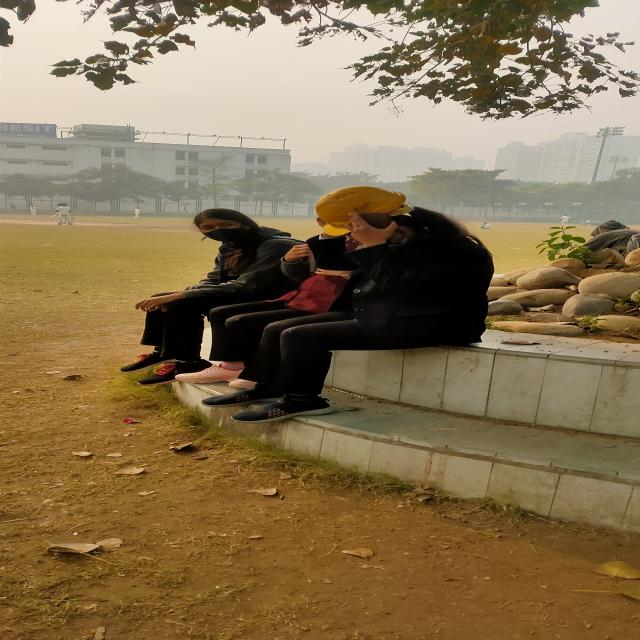no jacket: (310, 188, 505, 352)
unsafe: (193, 208, 316, 288)
